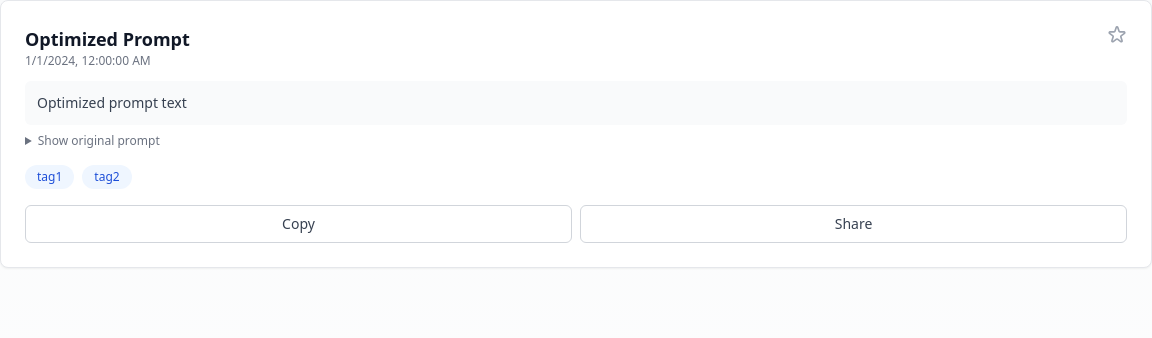
it: PromptCard › should show original prompt in details
The width and height of the screenshot is (1152, 338).
Click the heading "Show original prompt": (99, 140) [38,132,160,149]
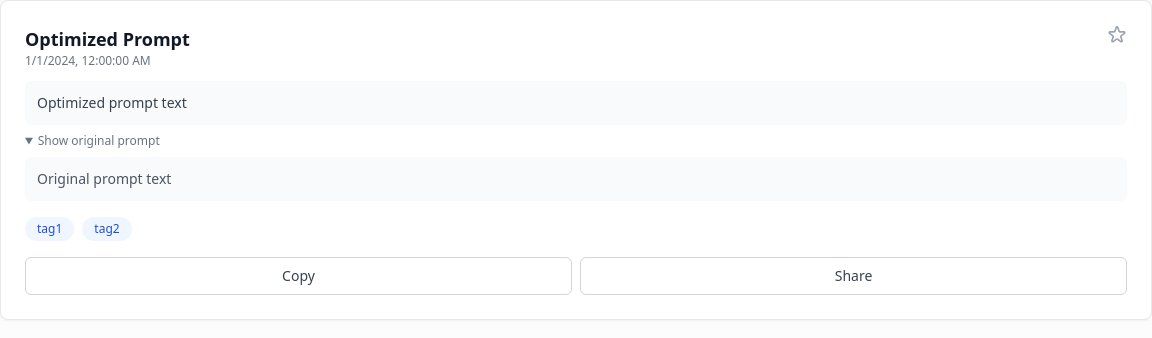
Expected: the text "Original prompt text" is shown, [37,169,171,188]
